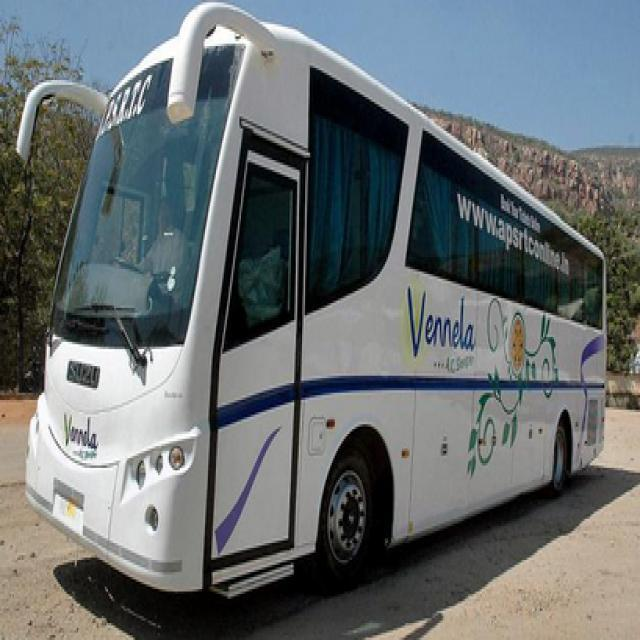bus_front: (8, 22, 600, 611)
